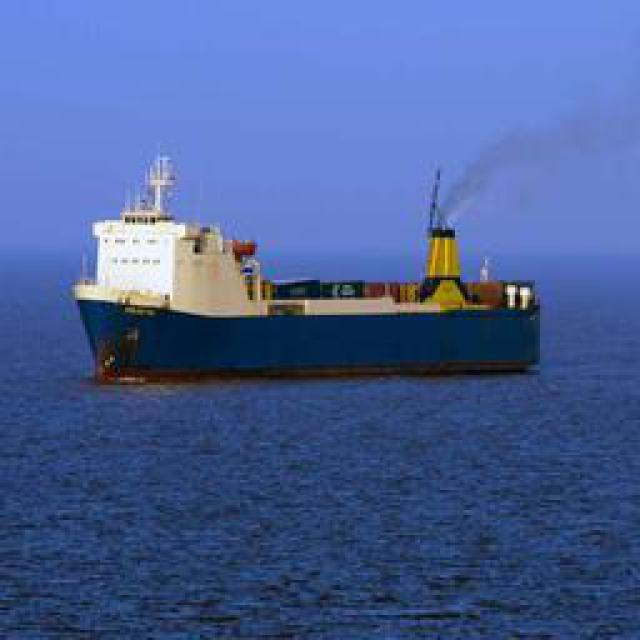Ship: (66, 142, 554, 380)
